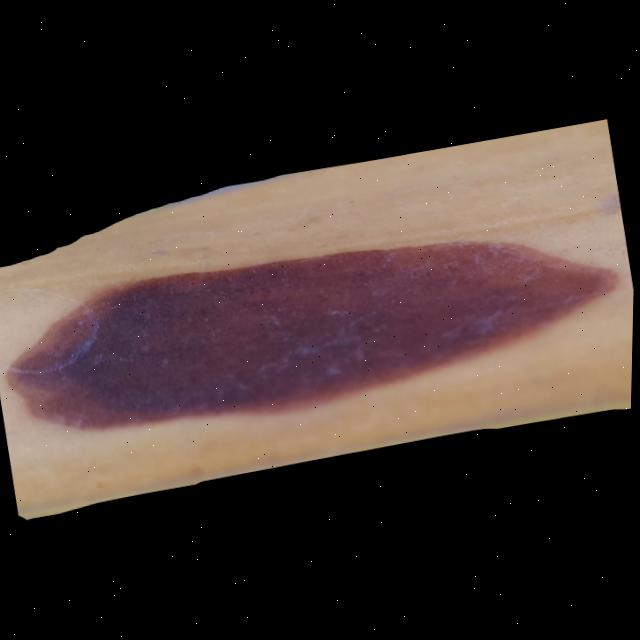mite: (7, 309, 112, 382), (427, 287, 530, 356), (435, 302, 516, 347), (51, 315, 111, 372), (586, 184, 624, 226), (595, 191, 622, 218), (324, 361, 347, 380)
sunburn: (0, 193, 632, 460)
